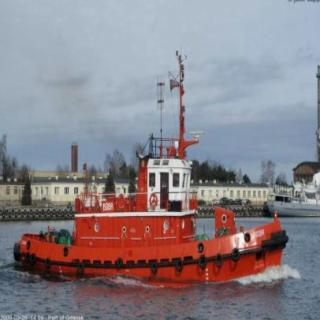Tug Boat: (32, 58, 296, 279)
